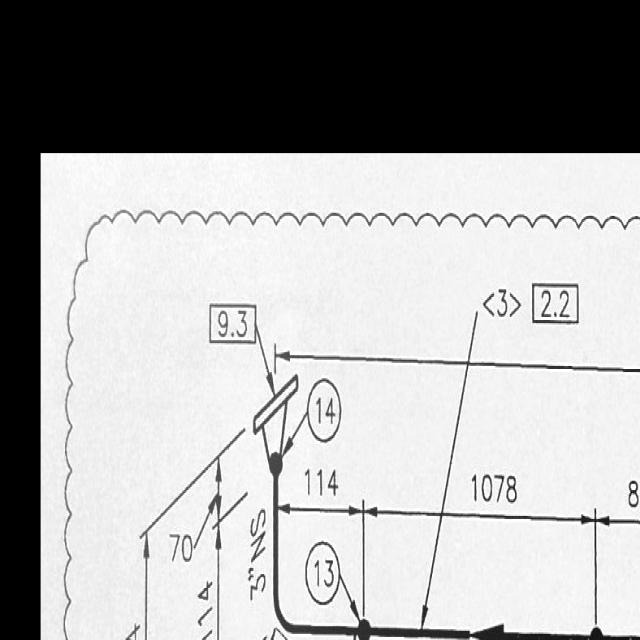Item number: (528, 274, 582, 334), (207, 296, 258, 350)
Measrement: (363, 463, 598, 531), (166, 444, 227, 572), (278, 460, 363, 520), (192, 513, 228, 638), (245, 494, 270, 617)
Symbol: (249, 374, 302, 479)
Weld number: (302, 533, 342, 613), (304, 371, 344, 450)
